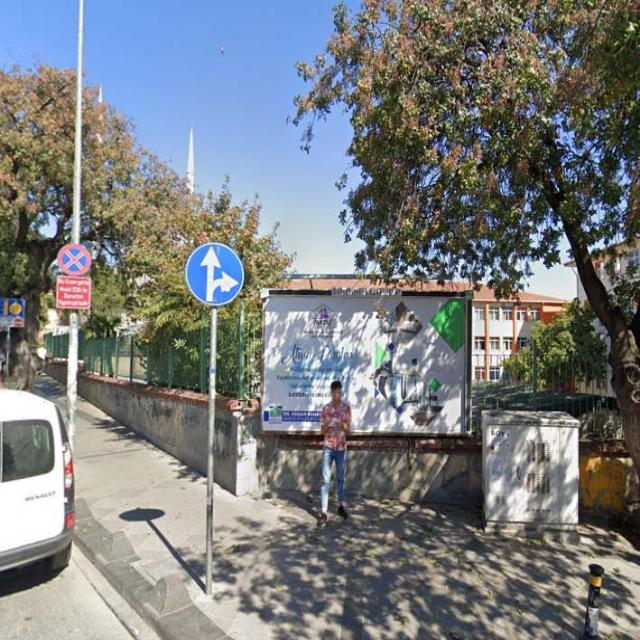ilerisag: (185, 242, 245, 306)
